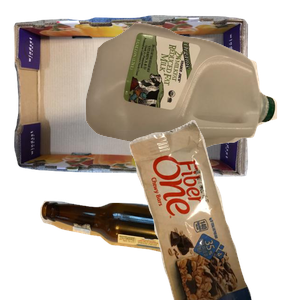cardboard: (11, 13, 251, 182)
glass: (37, 198, 236, 300)
plastic: (83, 21, 300, 162)
trash: (127, 120, 300, 300)
